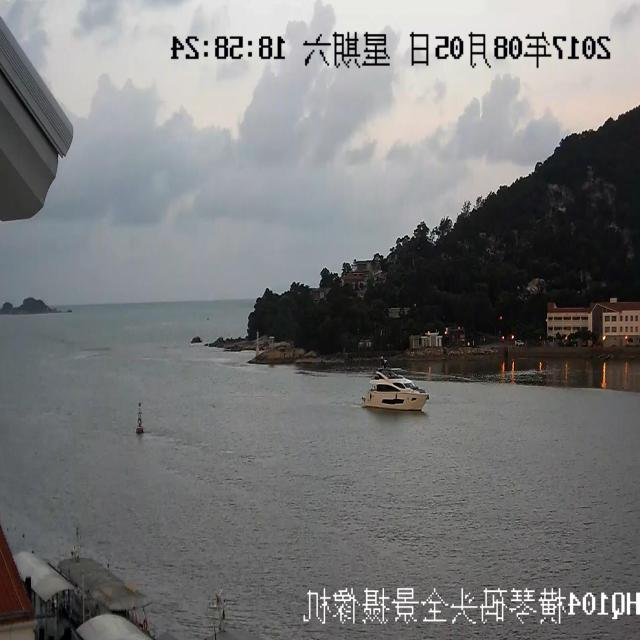buoy: (130, 387, 158, 446)
passenger ship: (366, 358, 434, 426)
reef: (0, 274, 62, 322)
